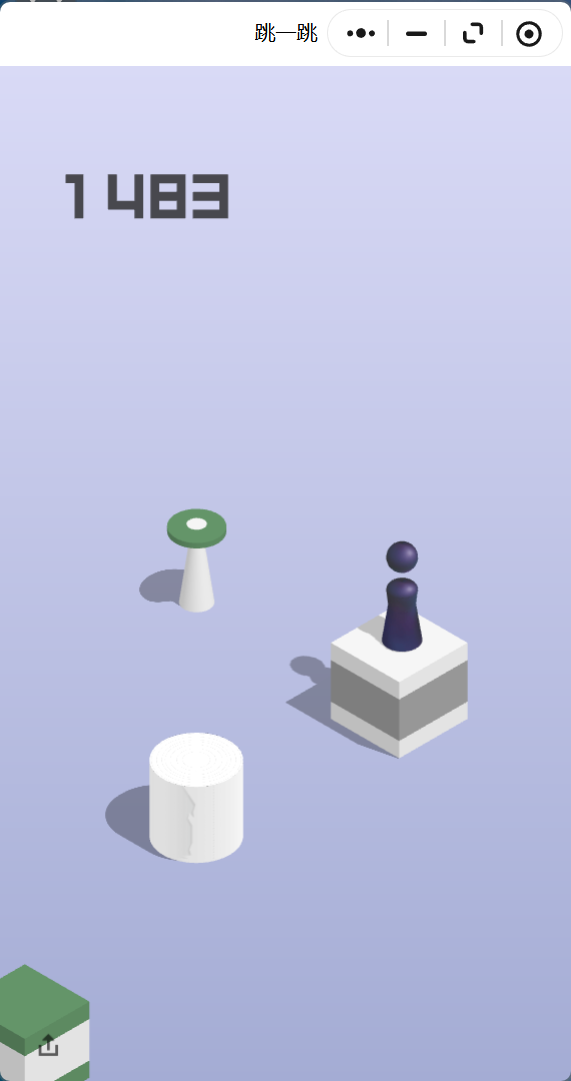piece: (386, 541, 419, 646)
target: (167, 508, 227, 541)
